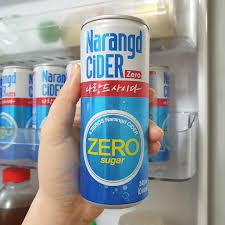narangdcider: (79, 14, 150, 210)
